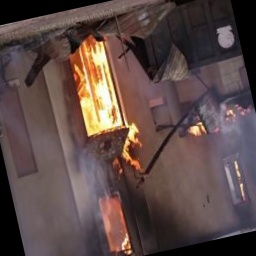fire: (65, 38, 130, 141), (91, 190, 138, 256)
